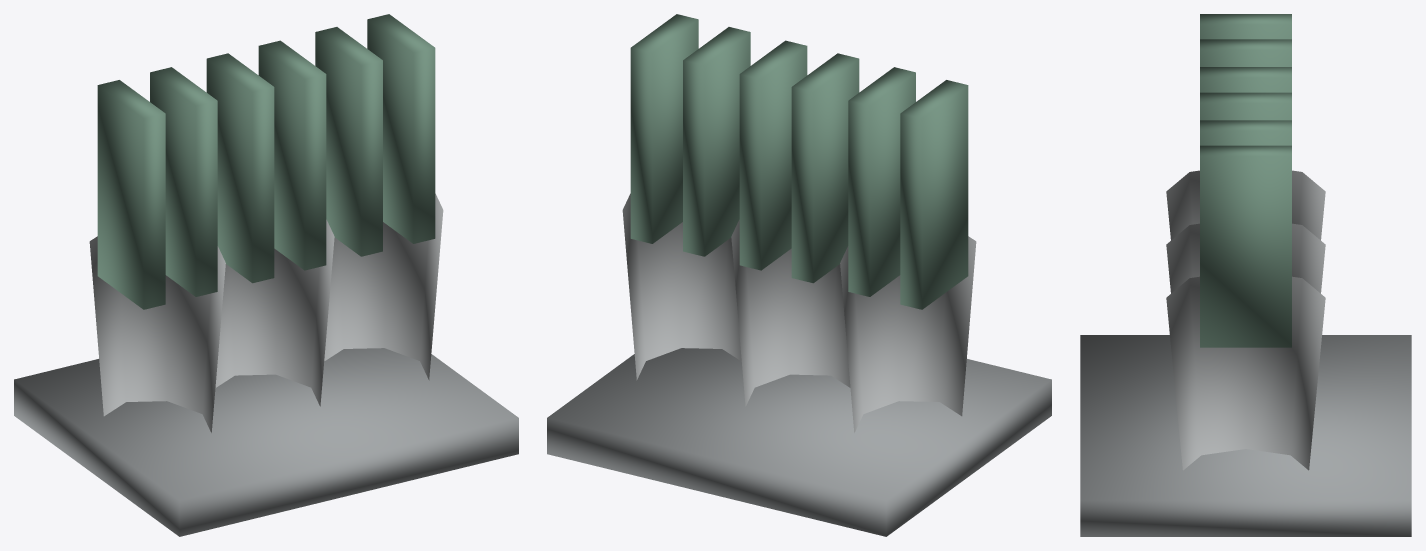
Rendered from standing_floral_display__deep.glb.
The picture shows the model from 3 angles, left to right: view 1: azimuth 30°, elevation 25°; view 2: azimuth 150°, elevation 25°; view 3: azimuth 270°, elevation 25°; orthographic projection.
Visible parts, largest first — view 1: world; view 2: world; view 3: world.
Boxes of the visible parts, x1,y1,x2,y2 form: world: (14,14,518,536); world: (547,14,1051,536); world: (1080,14,1411,536).
Bounding box in the file's own units: 0.78 × 0.81 × 0.6588.
